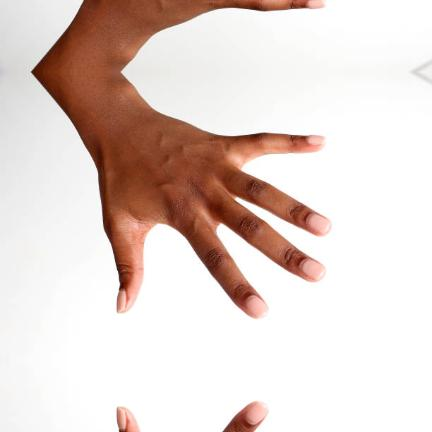Nail: (246, 295, 269, 319), (246, 401, 269, 425), (302, 260, 326, 281), (307, 214, 331, 234), (117, 289, 126, 313), (117, 407, 126, 431), (306, 135, 326, 145), (306, 0, 326, 9)
